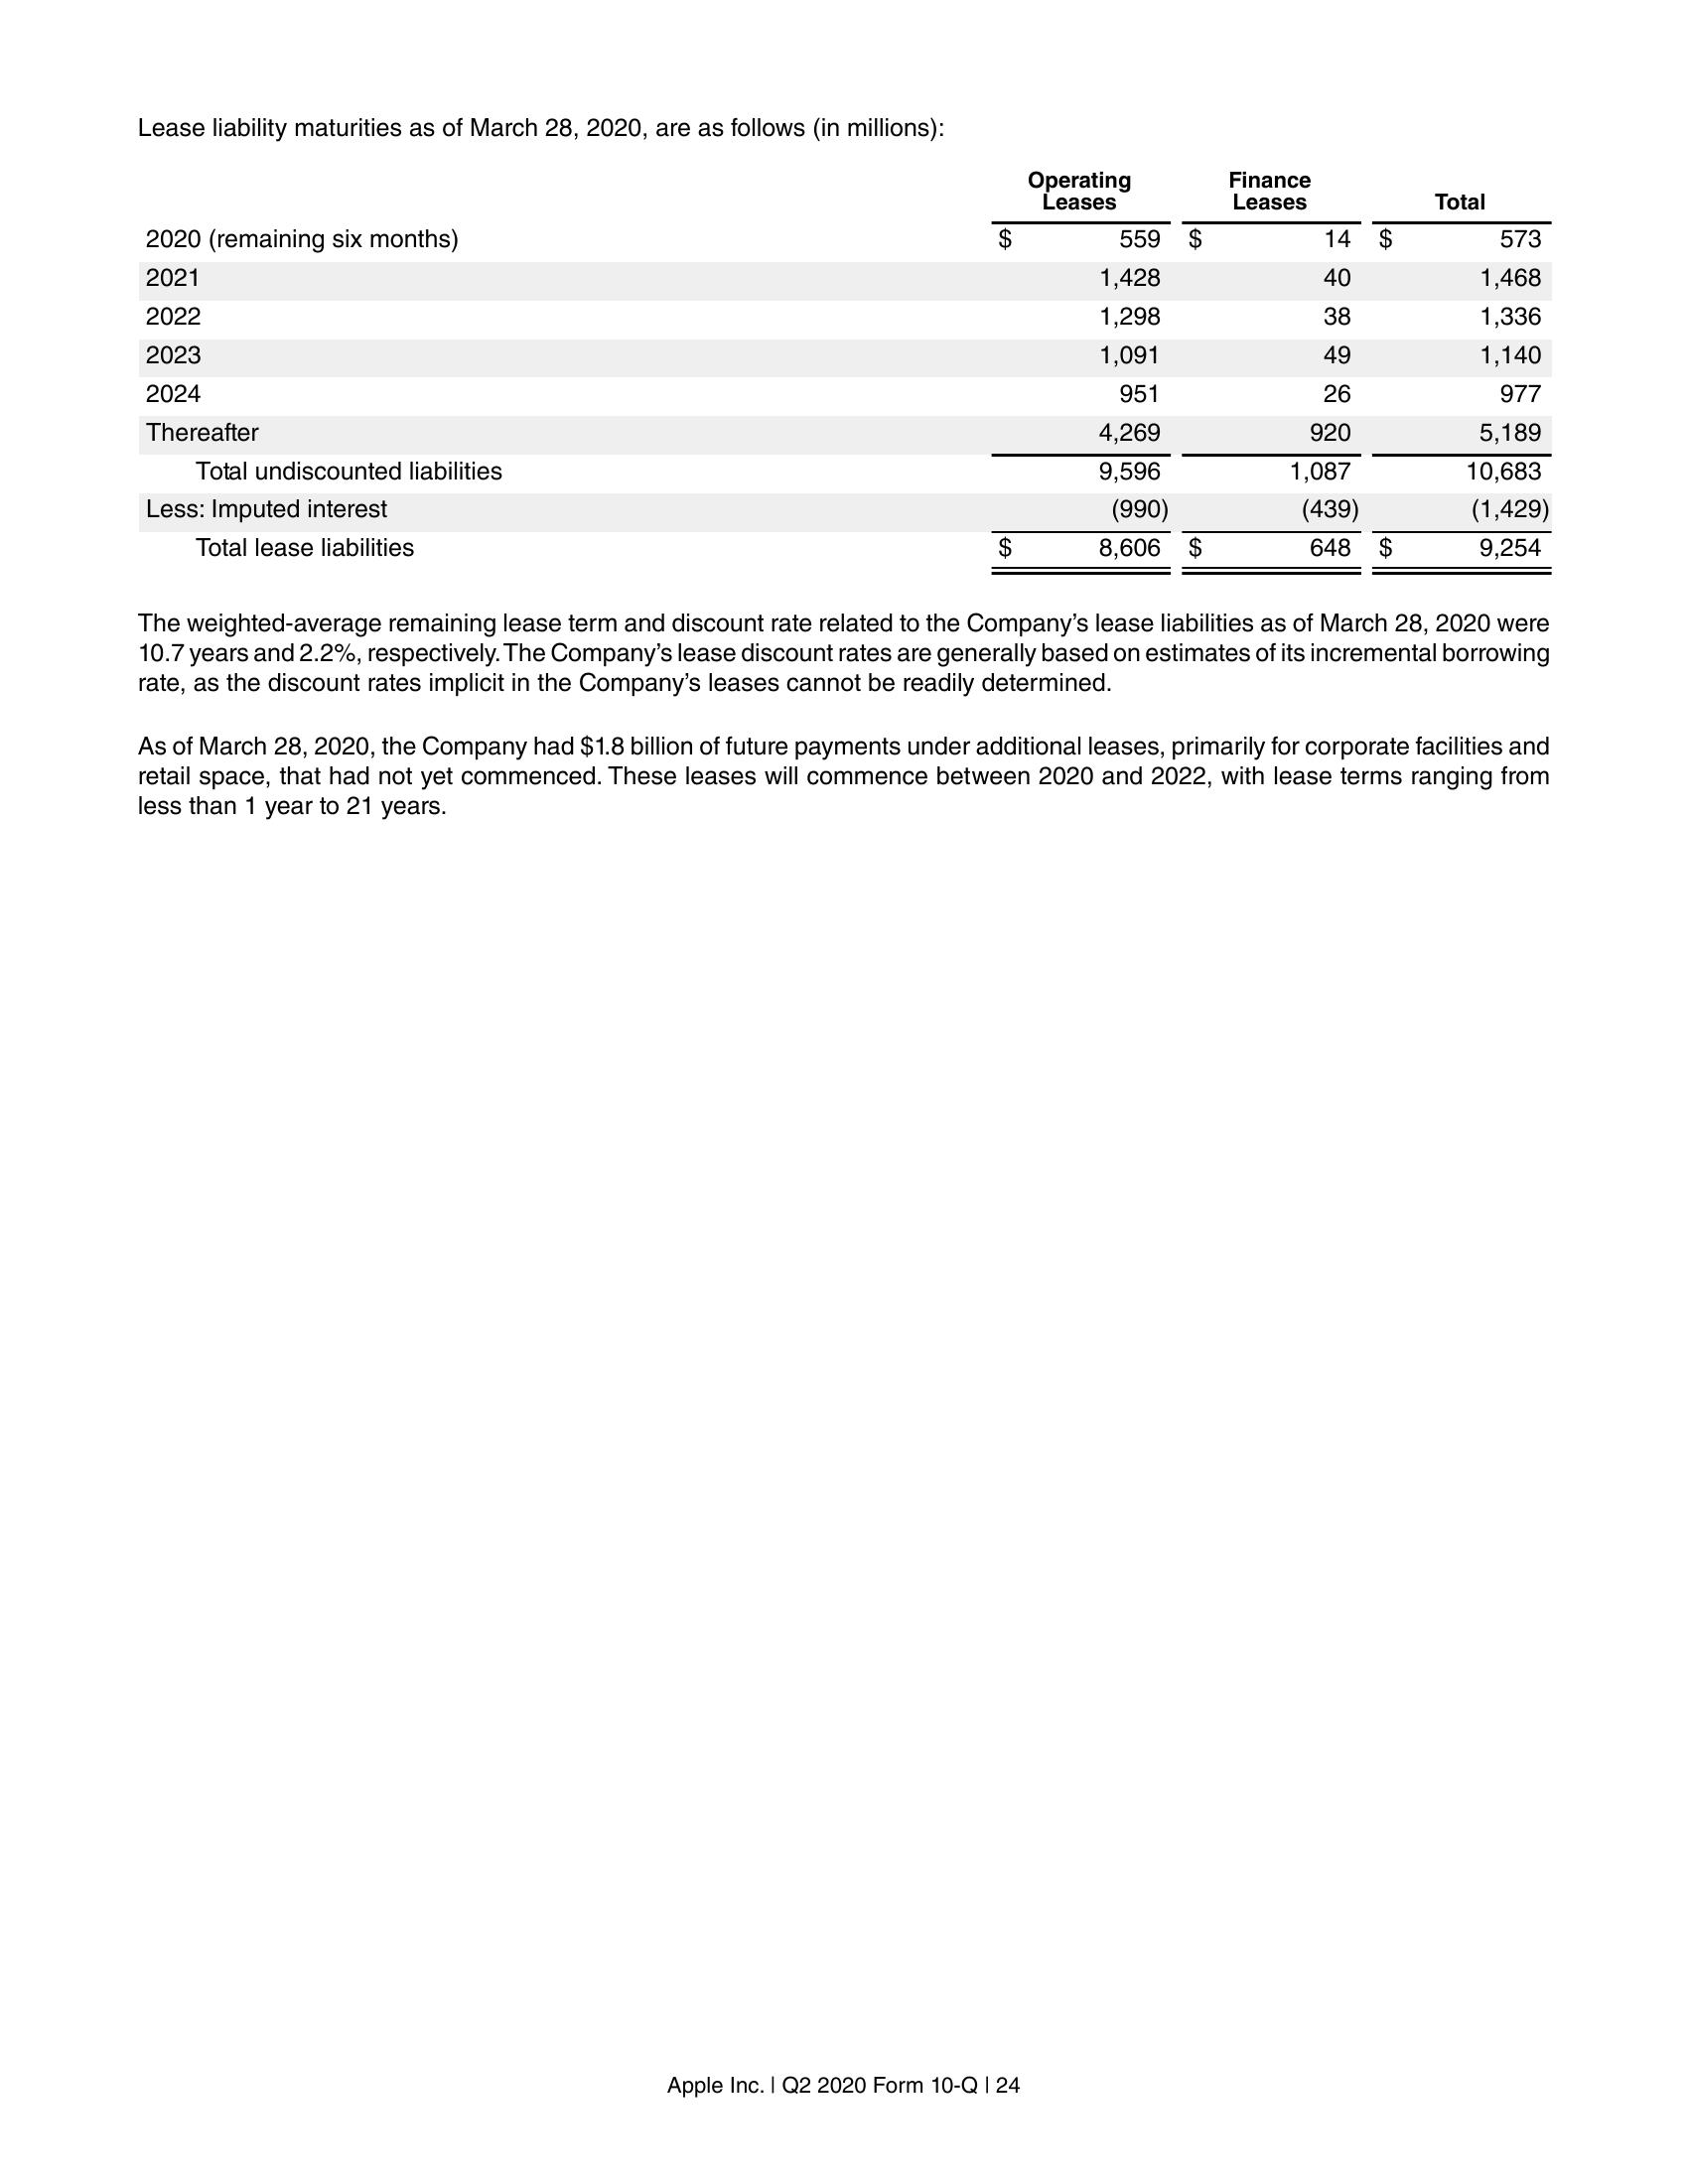table: (135, 161, 1557, 583)
